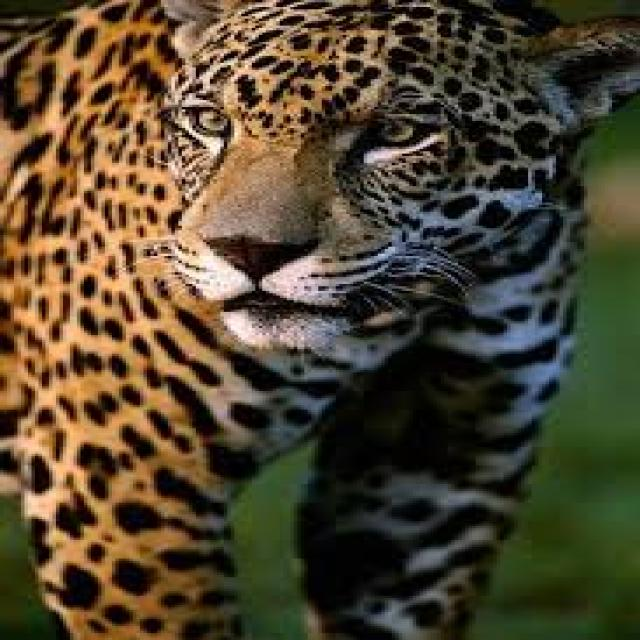Jaguar: (0, 4, 615, 640)
